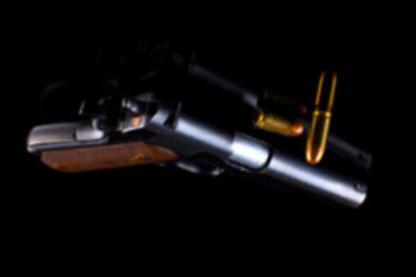pistol: (19, 66, 386, 227)
